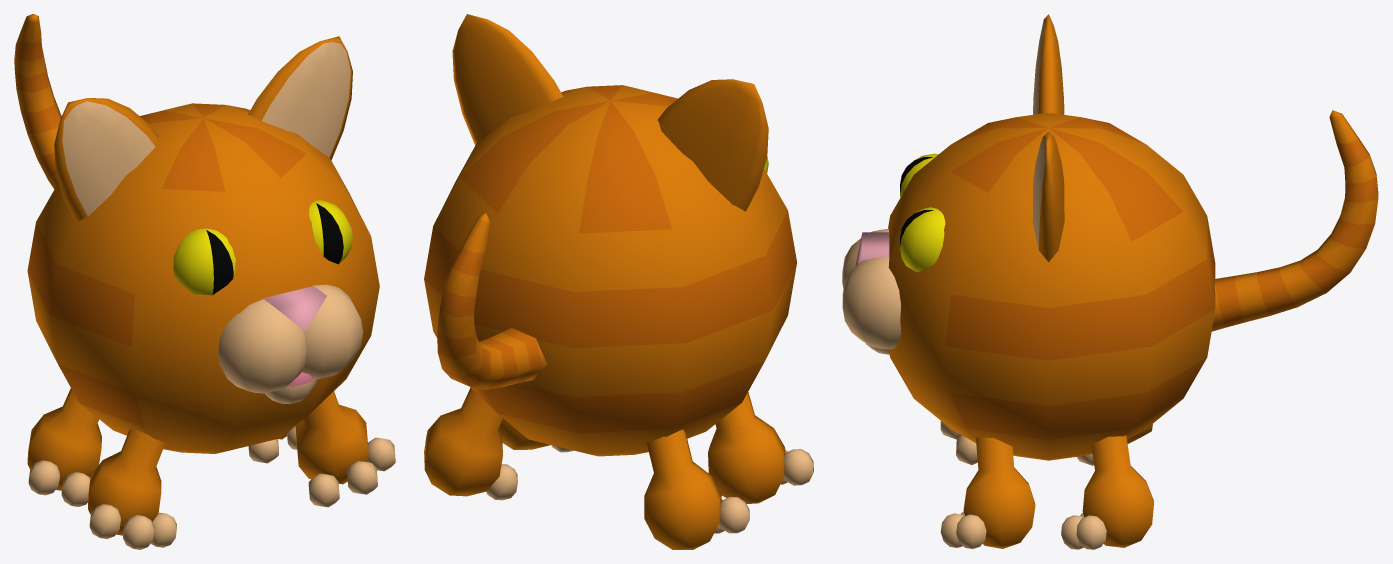
The model's file is Cat.fbx.
The picture shows the model from 3 angles, left to right: view 1: azimuth 30°, elevation 25°; view 2: azimuth 150°, elevation 25°; view 3: azimuth 270°, elevation 25°; orthographic projection. The views are drawn at different scales.
Visible parts, largest first — view 1: Cat; view 2: Cat; view 3: Cat.
Part boxes in pixels (x1=…): Cat: x1=14, y1=14, x2=395, y2=549; Cat: x1=424, y1=14, x2=813, y2=549; Cat: x1=842, y1=14, x2=1378, y2=549.
Bounding box in the file's own units: 20 × 26.71 × 30.57.
